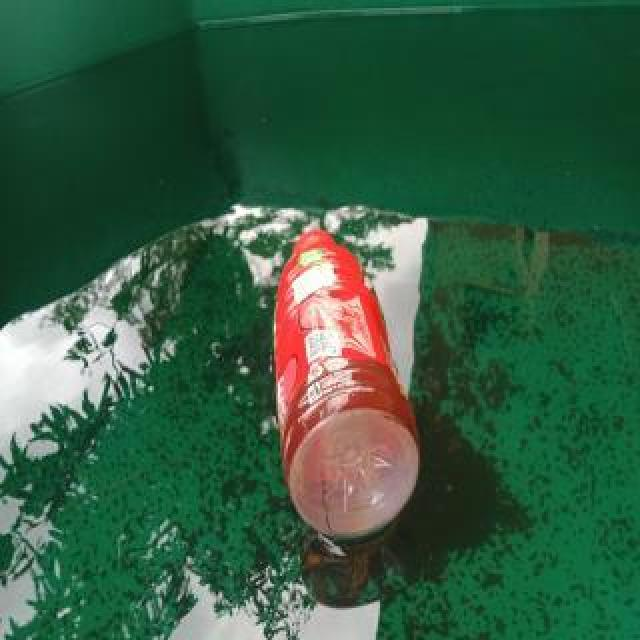bottle: (271, 222, 423, 546)
